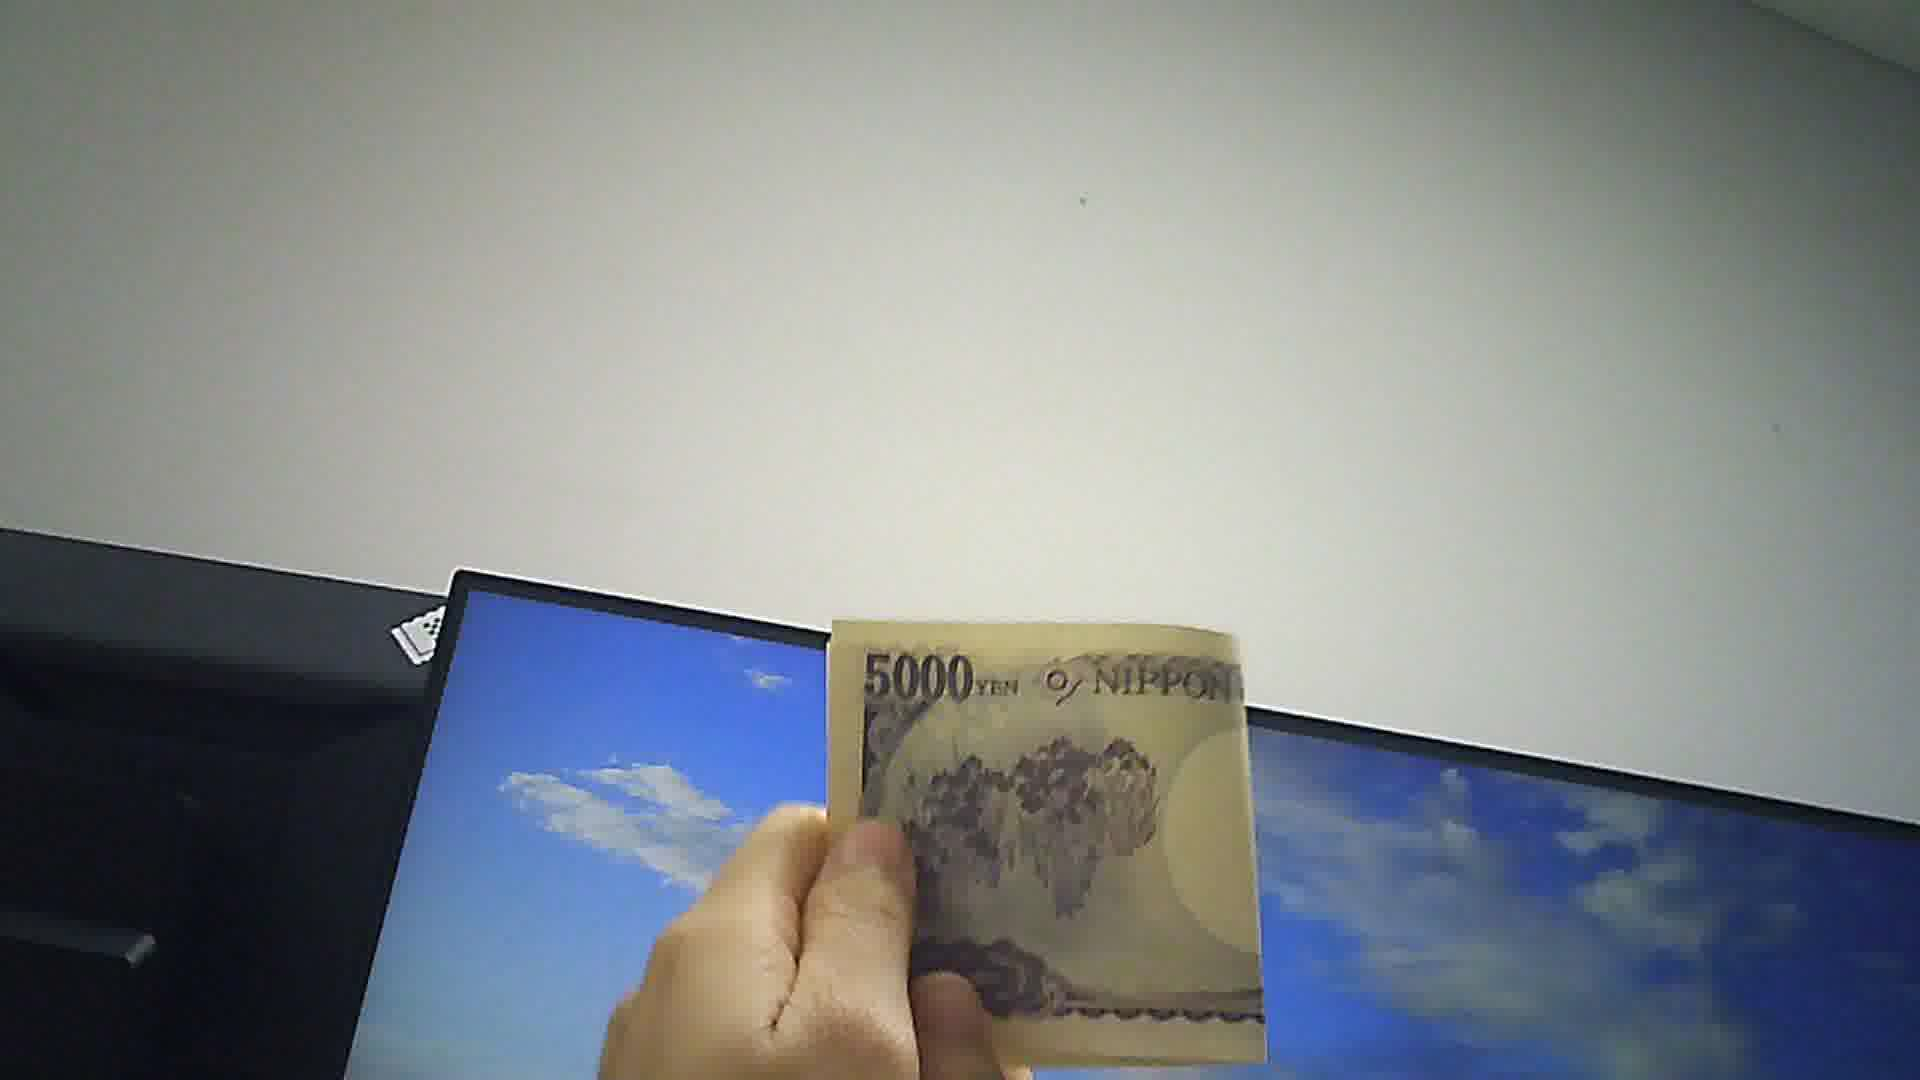5,000 Yen: (804, 596, 1294, 1058)
